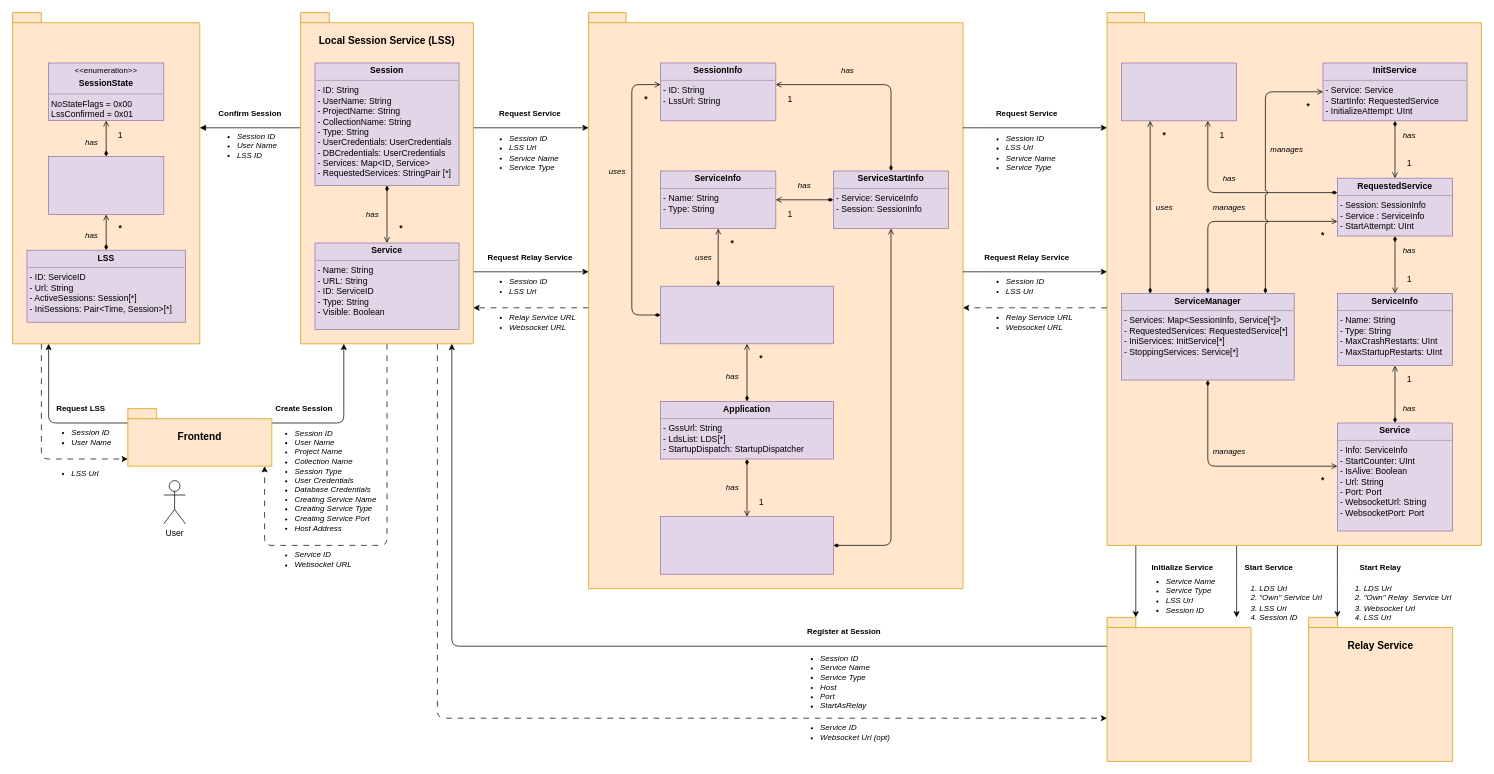
Image size: 1494x774. Some labels were removed from this diagram. Here are the shapes that lost their labels. From the top down, the box of each, then its label:
(1121, 62, 1237, 121): SessionInfo - ID: String - LssUrl: String
(12, 12, 200, 344): Global Session Service (GSS)
(48, 156, 164, 214): Session - State: SessionState - ID: String - UserName: String
(1106, 12, 1481, 545): Local Directory Service (LDS)
(660, 285, 833, 344): LDS - SupportedServices: String[*] - Services: Pair<SessionInfo, ServiceInfo>
(588, 12, 963, 589): Global Directory Service (GDS)
(660, 516, 833, 574): StartupDispatcher - Requests: ServiceStartInfo
(1106, 617, 1251, 761): Service
